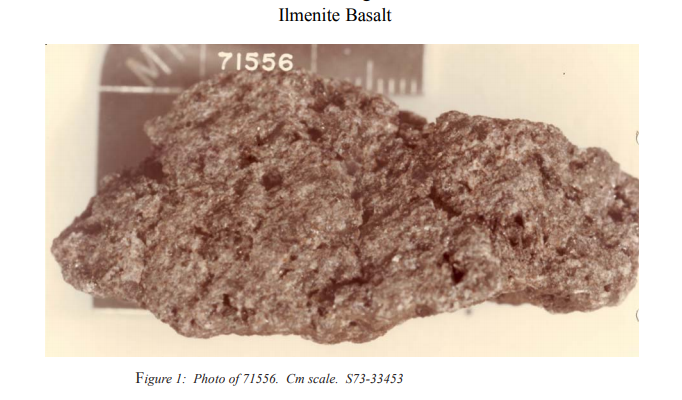Basalt: (143, 46, 617, 352), (78, 160, 619, 293)
